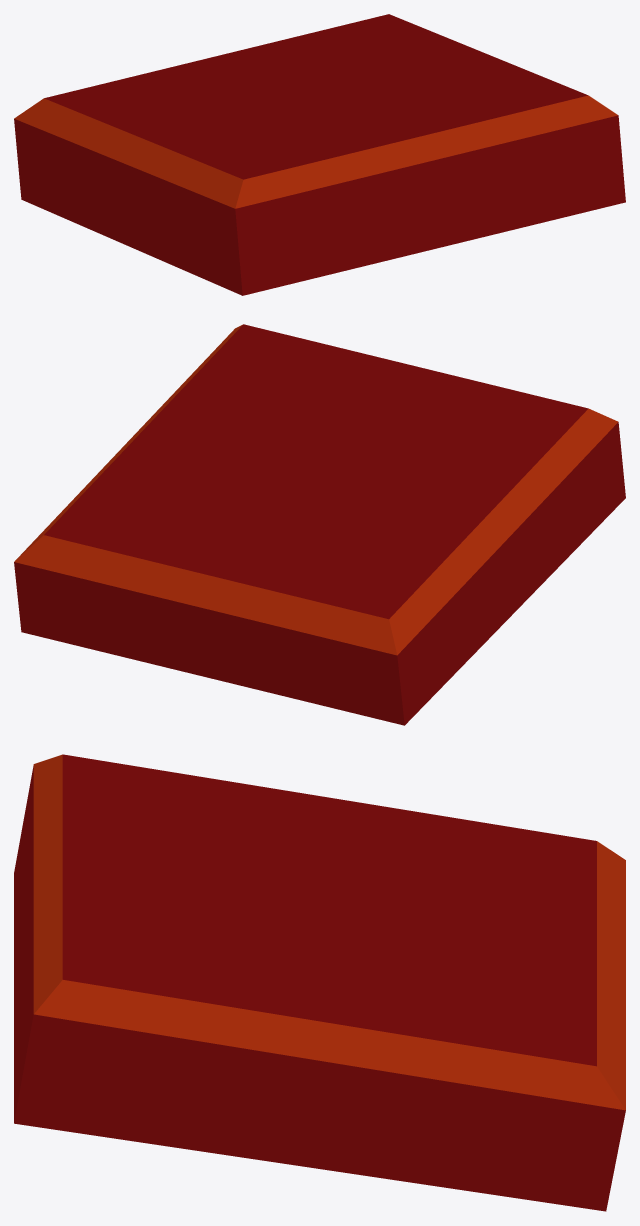
Rendered from red_button.glb.
The picture shows the model from 3 angles, top to bottom: view 1: azimuth 30°, elevation 25°; view 2: azimuth 150°, elevation 25°; view 3: azimuth 270°, elevation 25°; orthographic projection. The views are drawn at different scales.
Parts seen in each view (by area): view 1: Red_Button; view 2: Red_Button; view 3: Red_Button.
Boxes of the visible parts, bbox=[...] form: Red_Button: bbox=[14, 14, 625, 295]; Red_Button: bbox=[14, 324, 625, 725]; Red_Button: bbox=[14, 754, 625, 1211].
Size of what is drawn, in the model's own units: 0.2721 by 0.1112 by 0.2812.
Materials: 1 (1 with a texture image).
